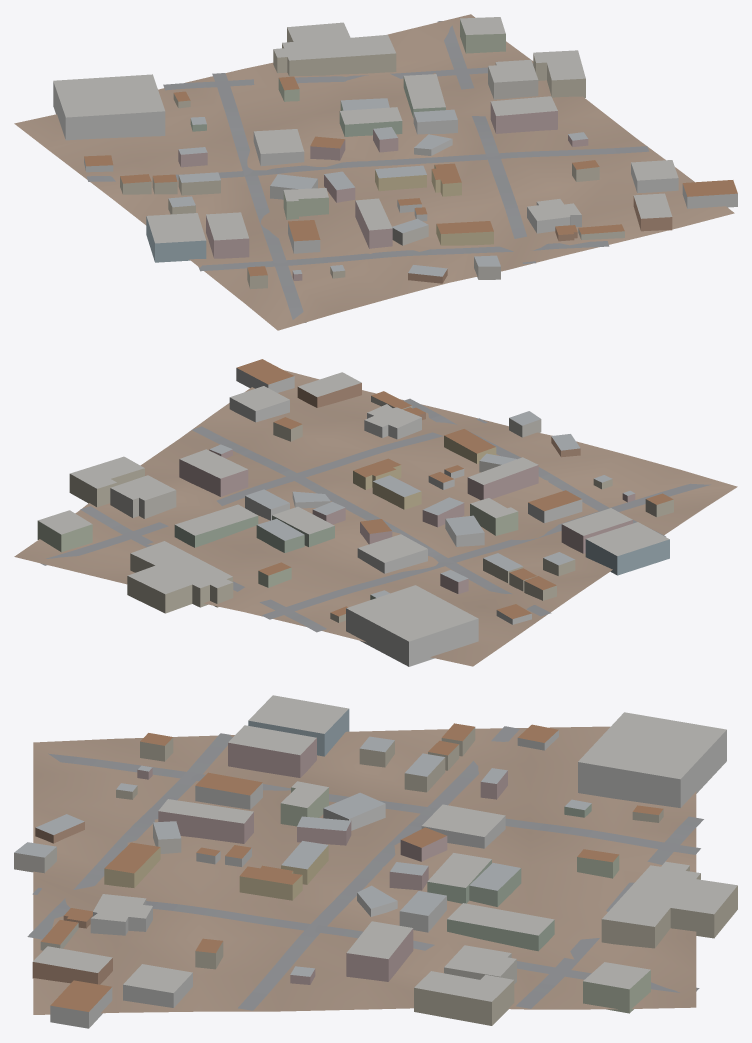
3 views of the same model, one above another, from view 1: azimuth 30°, elevation 25°; view 2: azimuth 150°, elevation 25°; view 3: azimuth 270°, elevation 25° (orthographic). The views are drawn at different scales.
Visible parts, largest first — view 1: Lo; view 2: Lo; view 3: Lo.
Part boxes in pixels (<box>): Lo: <box>14,14,737,330</box>; Lo: <box>14,359,737,666</box>; Lo: <box>14,695,737,1028</box>.
Size of the model in its own units: 286 by 18.92 by 280.
